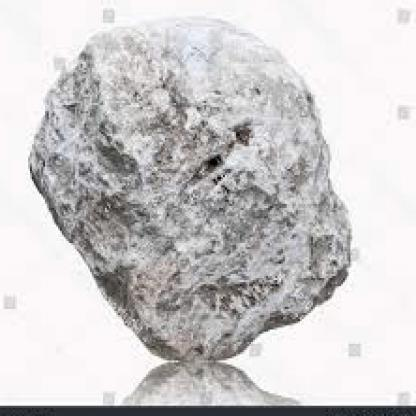Metamorphic_Marble: (30, 4, 356, 373)
